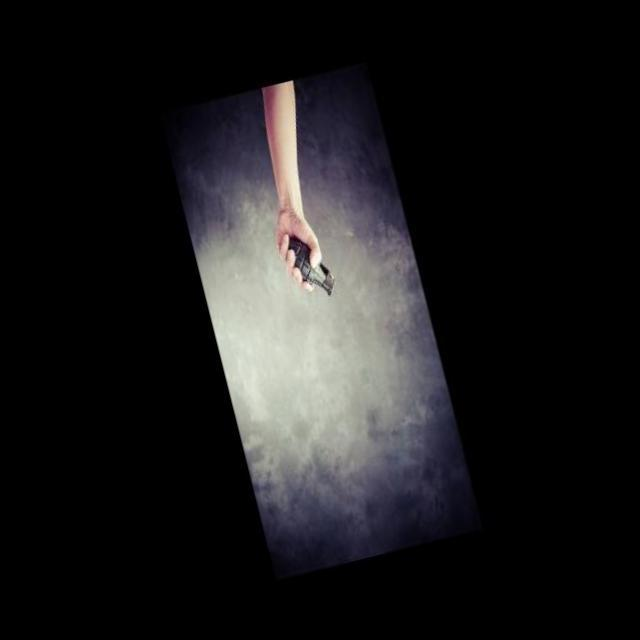grenade: (282, 222, 346, 311)
